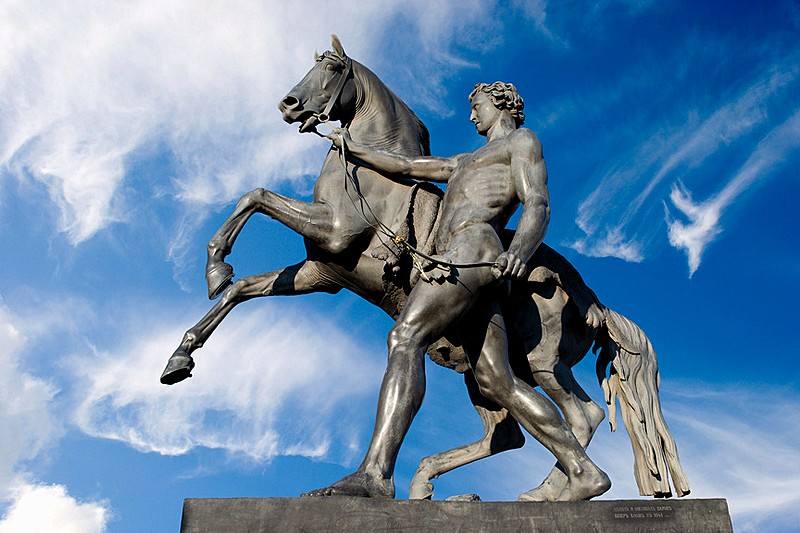person-like: (295, 76, 621, 508)
